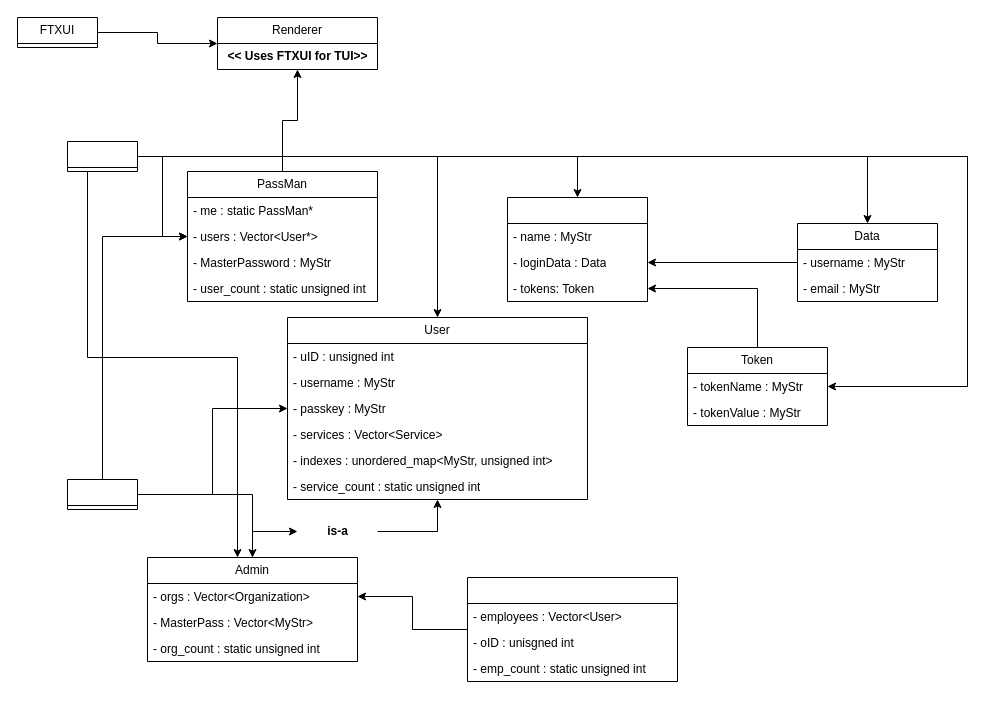
Some shapes in this 993 by 702 pixel diagram are drawn without their labels. The box of each missing label's shape, as (x1, y1, x2, y2) in pixels:
MyStr: (66, 140, 138, 172)
Organization: (466, 576, 678, 682)
Service: (506, 196, 648, 302)
Vector: (66, 478, 138, 510)
